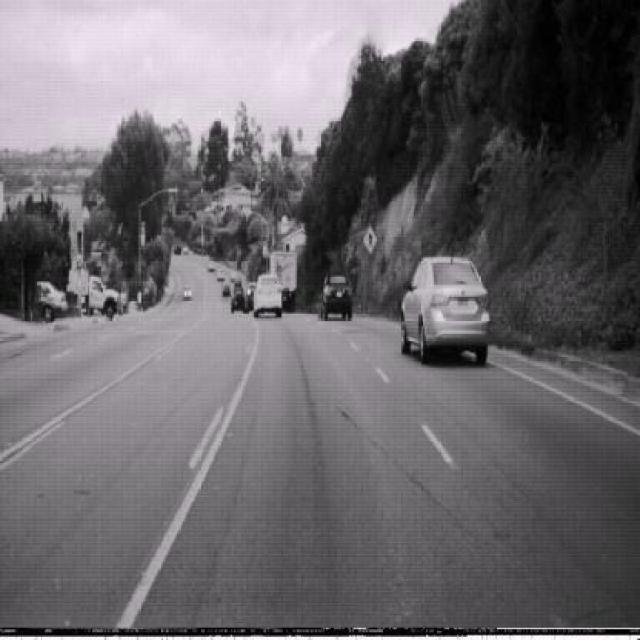pedestrianCrossing: (363, 225, 379, 256)
